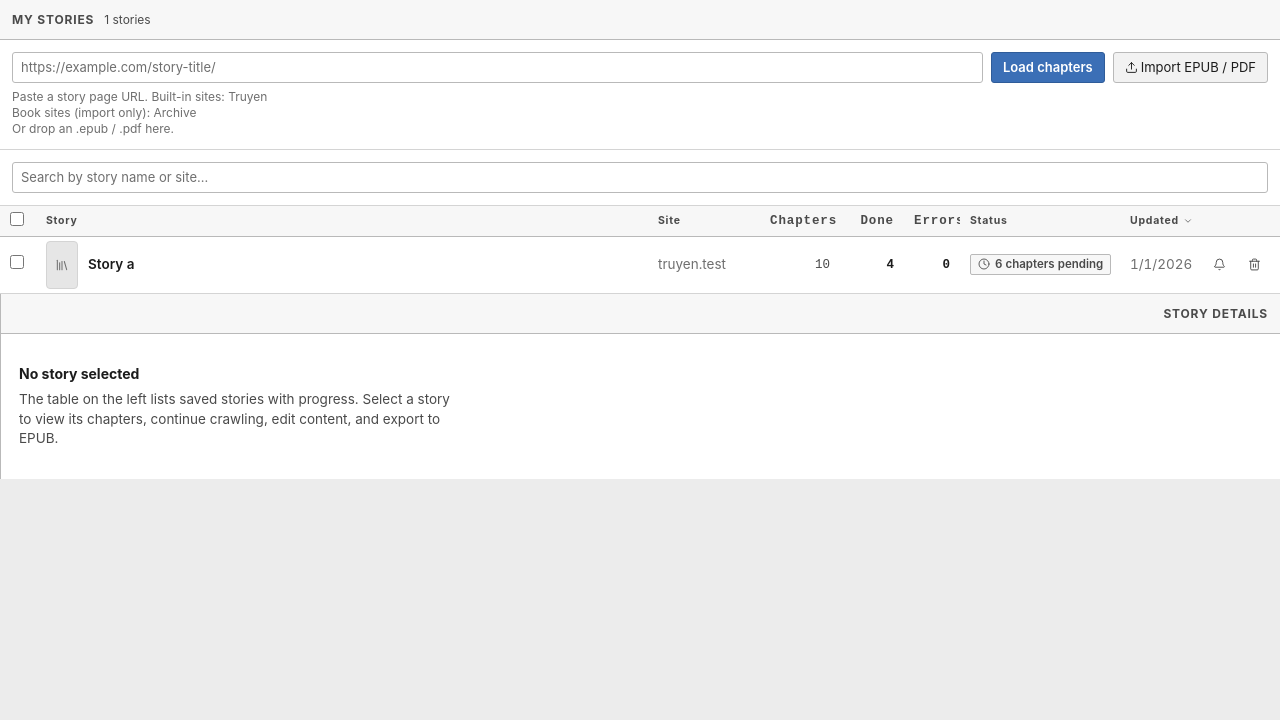
LibraryView opening a story › shows an error when the story cannot be opened
The image size is (1280, 720).
Click the button "Story a": click(62, 265) [46, 241, 638, 289]
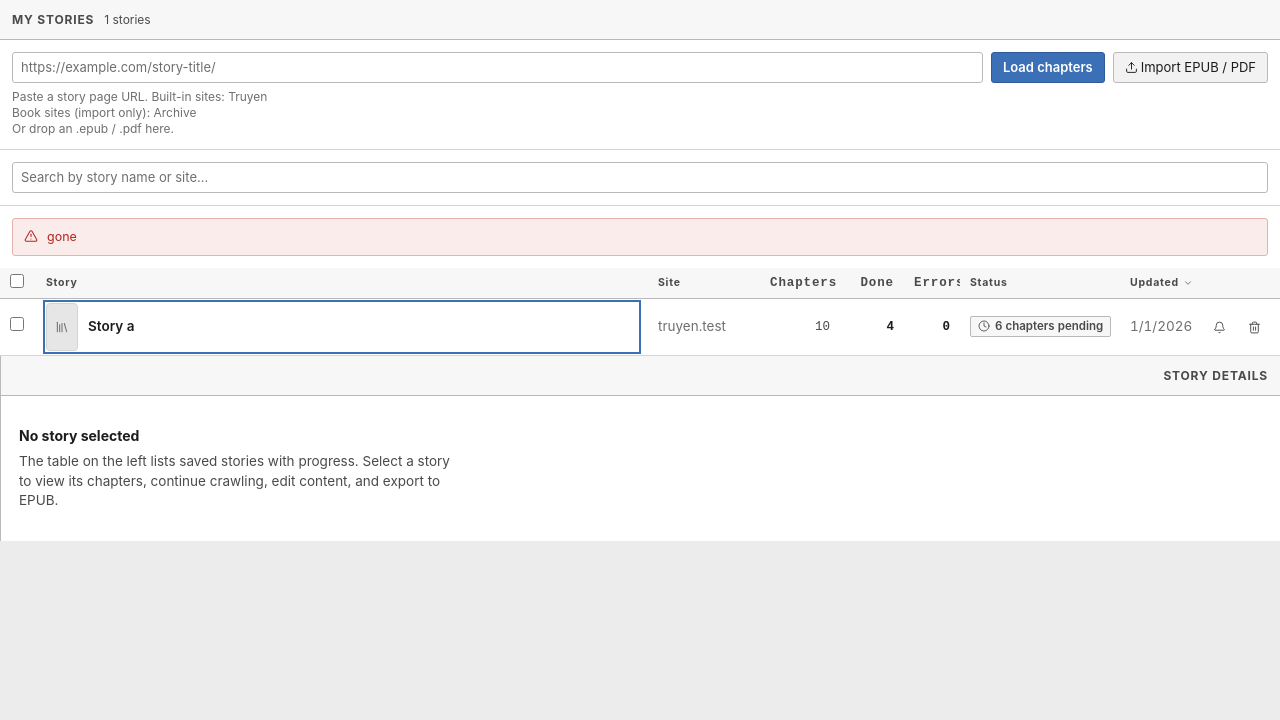
Expected: the text "gone" is shown, [47, 228, 77, 246]
